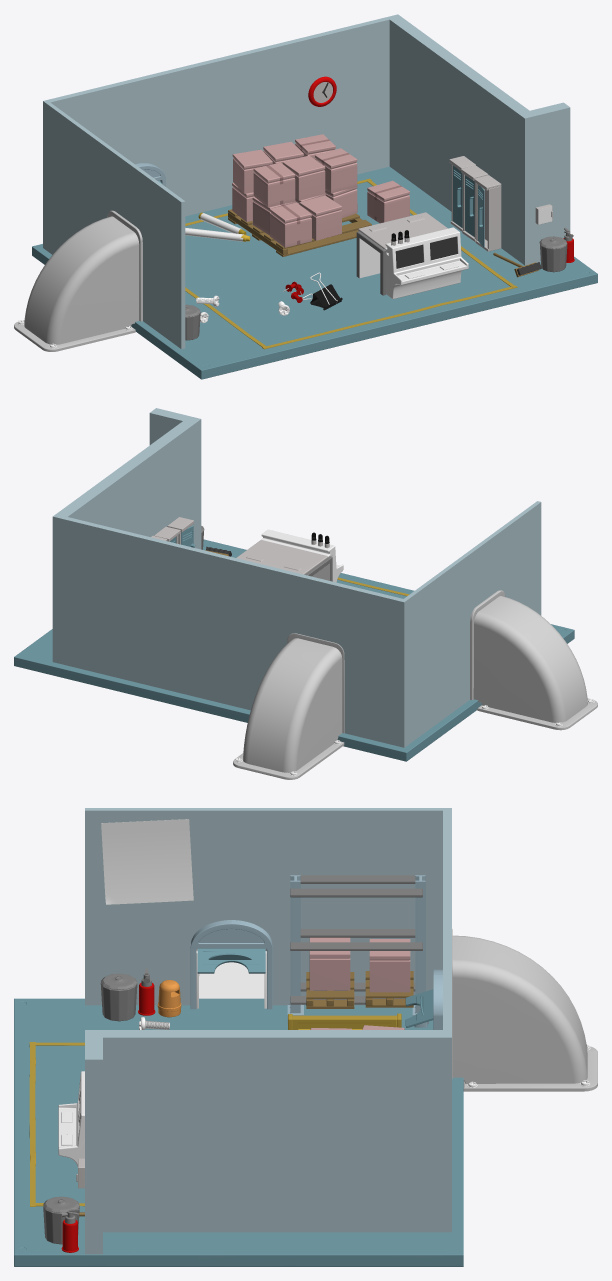
File: pica_pica.gltf
The picture shows the model from 3 angles, top to bottom: view 1: azimuth 30°, elevation 25°; view 2: azimuth 150°, elevation 25°; view 3: azimuth 270°, elevation 25°; orthographic projection. The views are drawn at different scales.
Parts seen in each view (by area): view 1: Walls, Mesh8_Plastic_Blue_0, pTorus5, Body, Box_032, Box_028, Box_035, Box_033, Box_025, Box_024, pCube179_Plastic_White_Matte_0.001, Box_027 (+14 smaller); view 2: Walls, pTorus5, pTorus5_Plastic_Pink_Details_0.001, Mesh8_Plastic_Blue_0, Body; view 3: Walls, Mesh8_Plastic_Blue_0, pTorus5_Plastic_Pink_Details_0.001, pCube244, pCube248, Machine_04_Inlet_Trim_03, Box24, Box25, pCylinder143_Plastic_Blue_0.001, Body, pCube195, pCube201 (+11 smaller).
Boxes of the visible parts, x1,y1,x2,y2 form: Walls: (43, 14, 570, 349); Mesh8_Plastic_Blue_0: (32, 166, 597, 379); pTorus5: (14, 210, 142, 351); Body: (358, 212, 468, 299); Box_032: (253, 162, 295, 207); Box_028: (269, 202, 311, 247); Box_035: (367, 180, 409, 223); Box_033: (315, 148, 357, 193); Box_025: (282, 155, 325, 200); Box_024: (299, 195, 341, 240); pCube179_Plastic_White_Matte_0.001: (475, 183, 501, 251); Box_027: (232, 149, 272, 193); Walls: (52, 408, 541, 747); pTorus5: (470, 590, 597, 730); pTorus5_Plastic_Pink_Details_0.001: (233, 633, 344, 779); Mesh8_Plastic_Blue_0: (14, 539, 574, 761); Body: (236, 529, 343, 582); Walls: (85, 808, 451, 1254); Mesh8_Plastic_Blue_0: (14, 998, 463, 1266); pTorus5_Plastic_Pink_Details_0.001: (452, 929, 597, 1091); pCube244: (101, 819, 193, 904); pCube248: (190, 920, 272, 1009); Machine_04_Inlet_Trim_03: (196, 951, 266, 1008); Box24: (369, 939, 410, 992); Box25: (309, 937, 350, 990); pCylinder143_Plastic_Blue_0.001: (197, 948, 265, 973); Body: (58, 1071, 84, 1166); pCube195: (292, 1015, 396, 1029); pCube201: (287, 875, 303, 1023).
Bounding box in the file's own units: 64.29 × 19.7 × 50.36.
